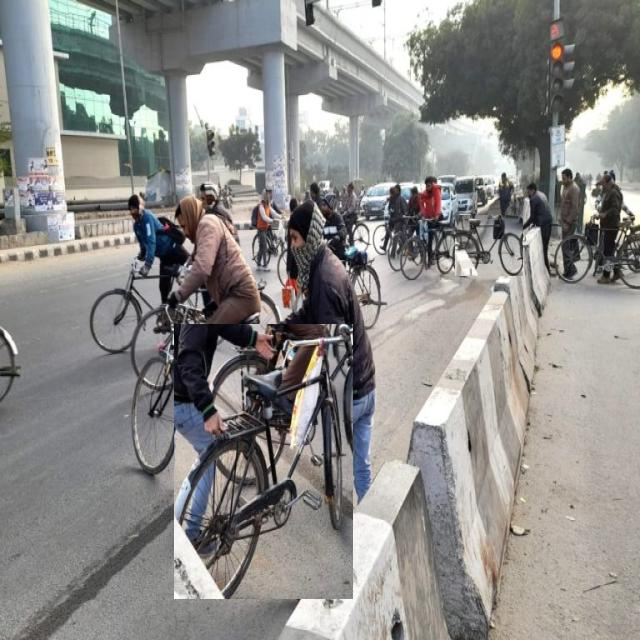bicycle: (174, 325, 352, 599), (555, 174, 640, 288), (455, 215, 522, 276)
